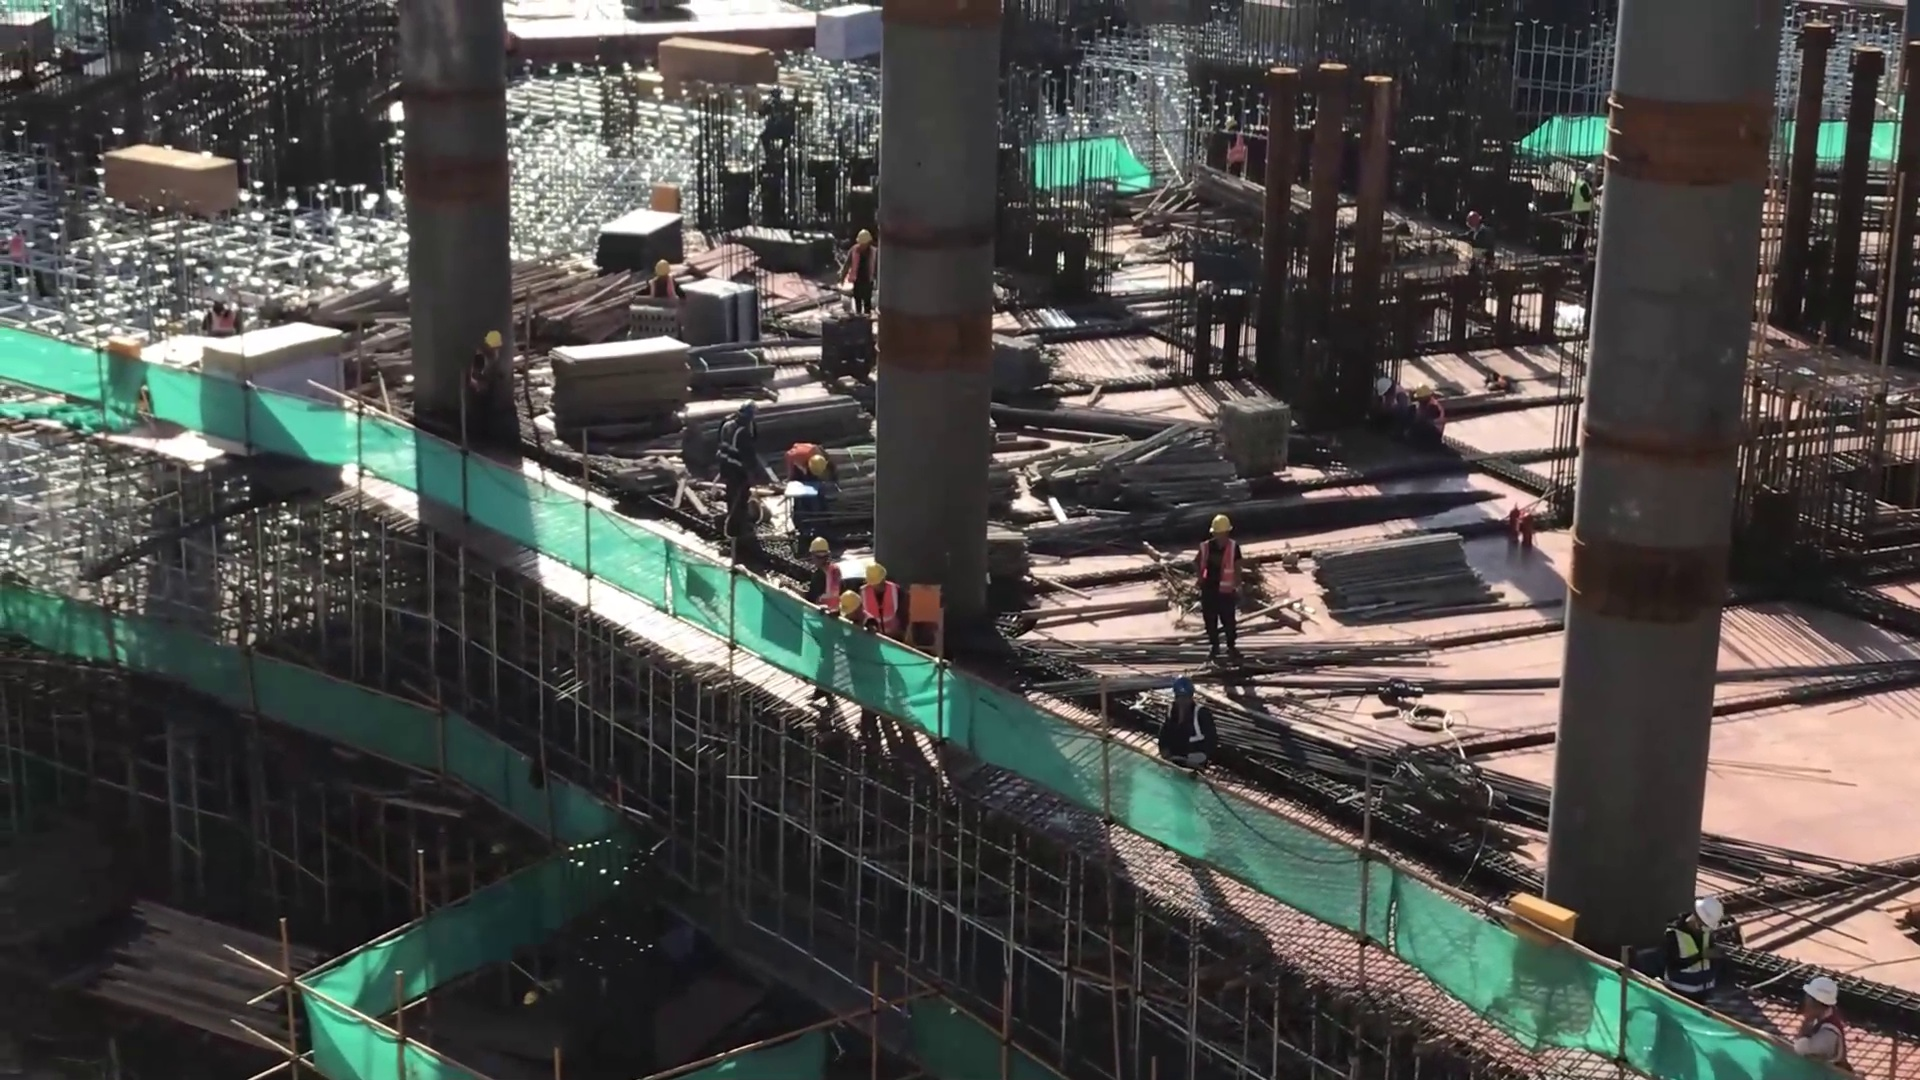helmet: (1794, 969, 1833, 1008), (202, 298, 236, 332), (1687, 895, 1720, 930), (800, 533, 836, 562), (860, 564, 887, 595), (1208, 519, 1233, 548), (847, 224, 871, 252), (479, 330, 501, 360), (651, 259, 678, 284), (838, 590, 858, 618), (1169, 678, 1192, 703), (733, 397, 757, 420), (1222, 113, 1239, 133), (1466, 209, 1483, 227), (1581, 164, 1594, 176), (813, 454, 820, 471)
person: (1189, 503, 1247, 673), (1654, 877, 1729, 1001), (1144, 661, 1216, 769), (1786, 966, 1852, 1075), (709, 386, 753, 537), (465, 317, 509, 421), (796, 528, 843, 622), (859, 564, 904, 642), (779, 437, 838, 491), (1567, 152, 1597, 248), (1211, 108, 1254, 174), (1455, 203, 1500, 261)
vest: (1156, 699, 1205, 756), (1666, 928, 1706, 996), (1197, 543, 1236, 613), (714, 425, 750, 486), (841, 251, 878, 296), (863, 581, 895, 628), (810, 567, 839, 610), (786, 439, 808, 479), (1572, 180, 1591, 214), (1226, 140, 1245, 166)
